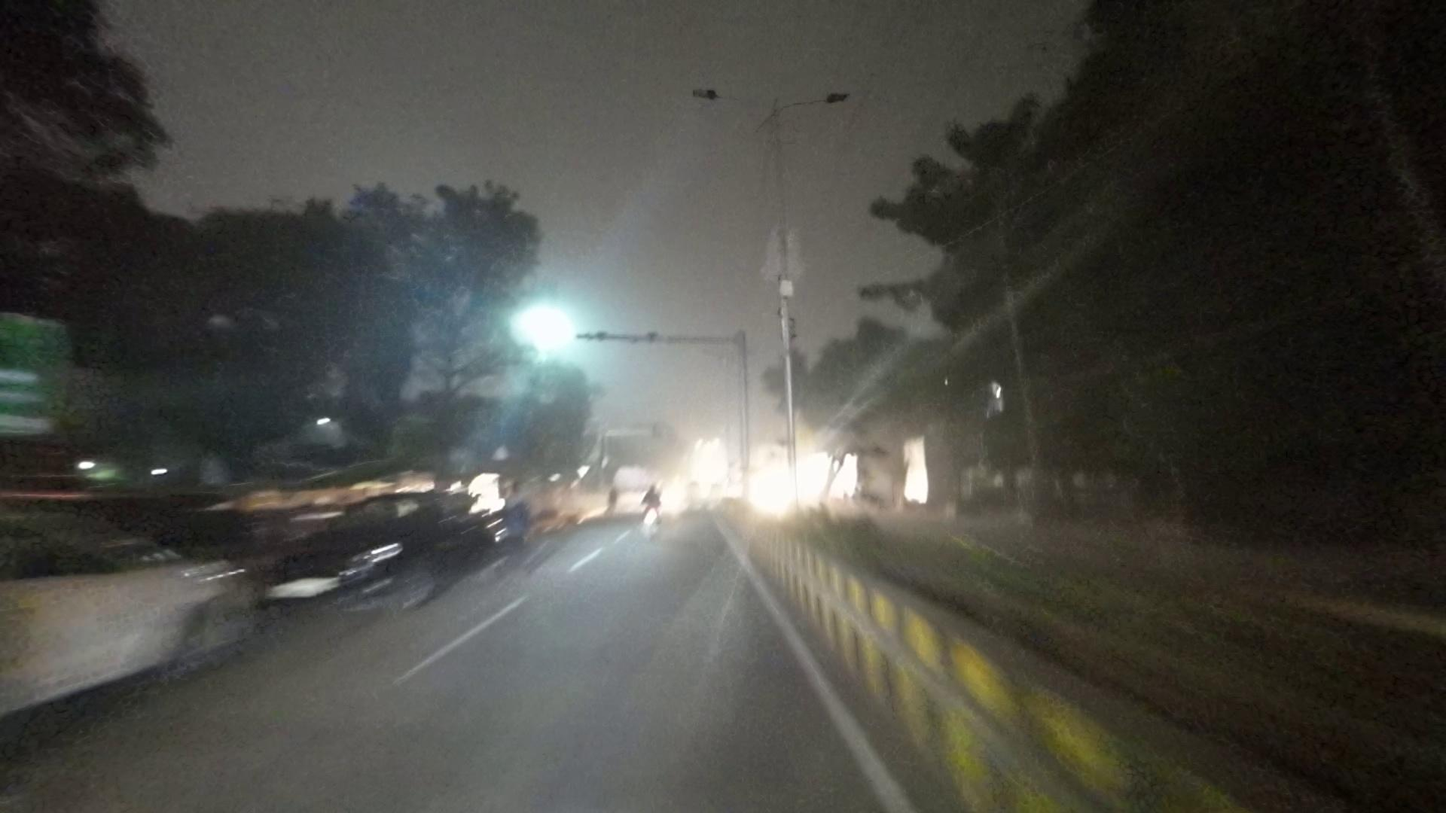streetlight: (690, 85, 765, 110), (784, 90, 857, 114)
